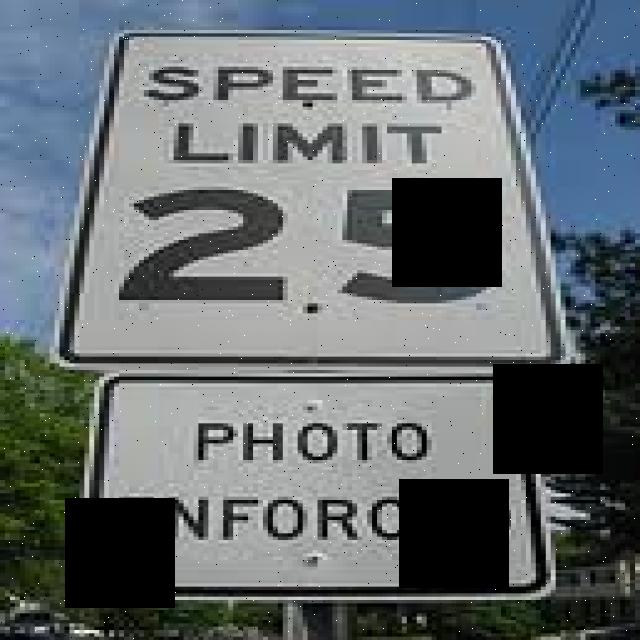regulatory: (54, 22, 582, 374), (69, 370, 568, 613)
